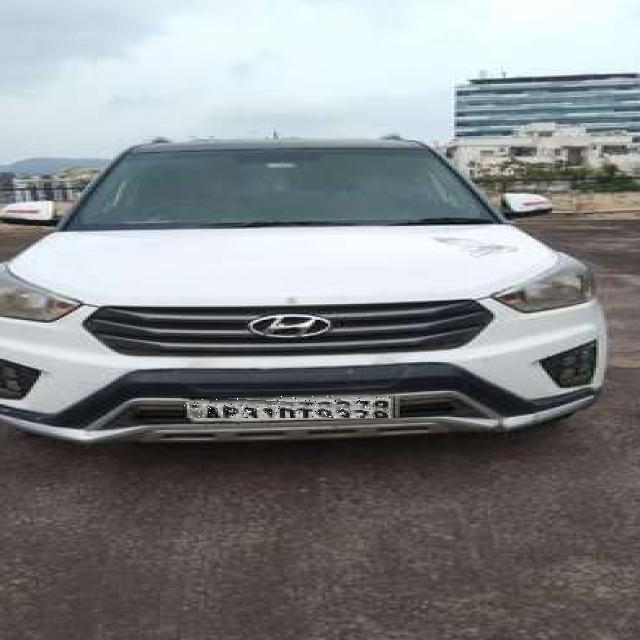Plate: (185, 397, 399, 419)
